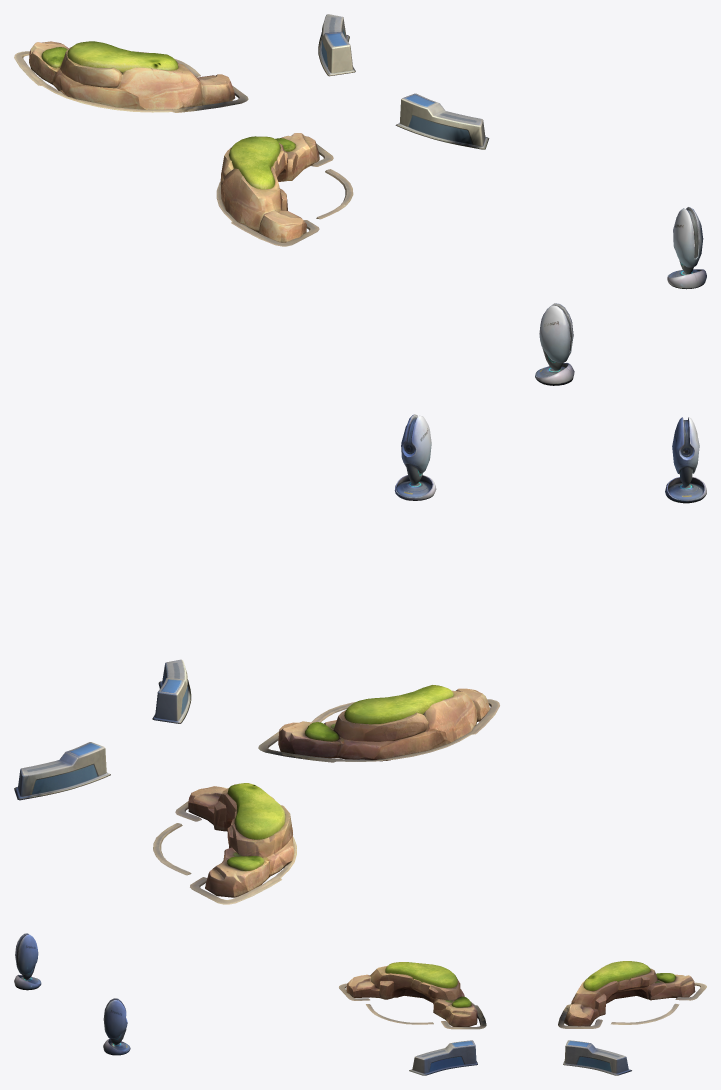
File: pref_sm_beach_bk_rockblock_L01_lv2.fbx
The picture shows the model from 3 angles, top to bottom: view 1: azimuth 30°, elevation 25°; view 2: azimuth 150°, elevation 25°; view 3: azimuth 270°, elevation 25°; orthographic projection. The views are drawn at different scales.
Visible parts, largest first — view 1: sm_beach_bk_rockblock_L01a_lv2, sm_beach_bk_rockblock_L01b_lv2, sm_beach_bk_rockblock_L01c_lv2, sm_beach_bk_rockblock_L01d_lv2; view 2: sm_beach_bk_rockblock_L01a_lv2, sm_beach_bk_rockblock_L01b_lv2, sm_beach_bk_rockblock_L01c_lv2, sm_beach_bk_rockblock_L01d_lv2; view 3: sm_beach_bk_rockblock_L01a_lv2, sm_beach_bk_rockblock_L01b_lv2, sm_beach_bk_rockblock_L01c_lv2, sm_beach_bk_rockblock_L01d_lv2.
Part boxes in pixels (<box>): sm_beach_bk_rockblock_L01a_lv2: <box>29,41,319,242</box>; sm_beach_bk_rockblock_L01b_lv2: <box>318,14,489,149</box>; sm_beach_bk_rockblock_L01c_lv2: <box>535,207,706,385</box>; sm_beach_bk_rockblock_L01d_lv2: <box>14,51,353,246</box>; sm_beach_bk_rockblock_L01a_lv2: <box>188,685,489,897</box>; sm_beach_bk_rockblock_L01b_lv2: <box>14,659,191,800</box>; sm_beach_bk_rockblock_L01c_lv2: <box>394,414,706,503</box>; sm_beach_bk_rockblock_L01d_lv2: <box>153,699,499,904</box>; sm_beach_bk_rockblock_L01a_lv2: <box>346,961,695,1026</box>; sm_beach_bk_rockblock_L01b_lv2: <box>409,1040,631,1075</box>; sm_beach_bk_rockblock_L01c_lv2: <box>14,933,130,1055</box>; sm_beach_bk_rockblock_L01d_lv2: <box>339,982,706,1029</box>.
Bounding box in the file's own units: 17.49 × 5.91 × 53.45.
